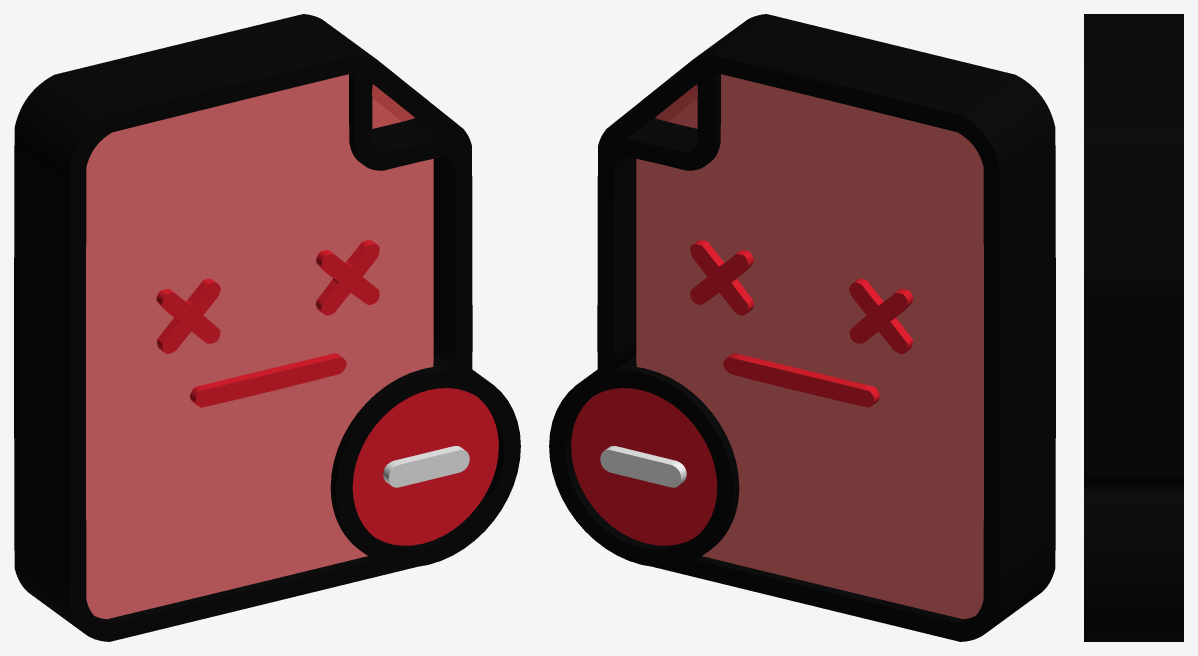
File: softwareBroke.fbx
The picture shows the model from 3 angles, left to right: view 1: azimuth 30°, elevation 25°; view 2: azimuth 150°, elevation 25°; view 3: azimuth 270°, elevation 25°; orthographic projection. The views are drawn at different scales.
Visible parts, largest first — view 1: @软件崩溃.001; view 2: @软件崩溃.001; view 3: @软件崩溃.001.
Part boxes in pixels (bbox=[...]): @软件崩溃.001: bbox=[14, 14, 520, 641]; @软件崩溃.001: bbox=[549, 14, 1055, 641]; @软件崩溃.001: bbox=[1084, 14, 1183, 641].
Bounding box in the file's own units: 62.32 × 69.56 × 13.18.
